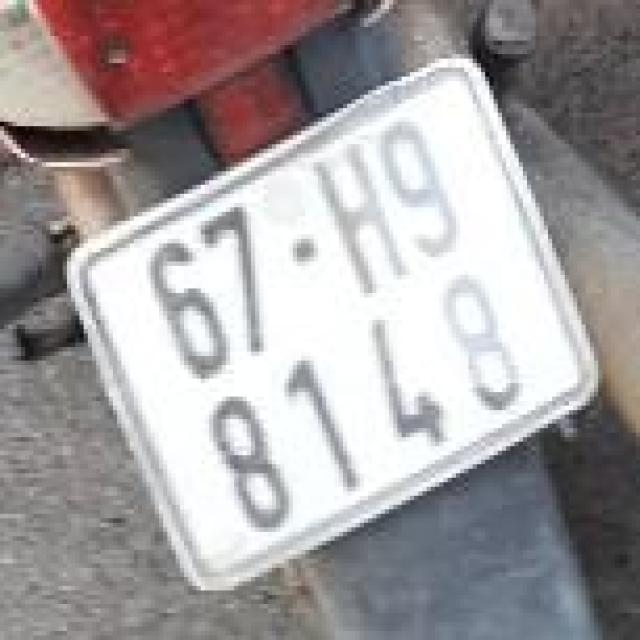1: (272, 341, 375, 501)
4: (347, 297, 467, 469)
6: (133, 224, 240, 389)
7: (188, 197, 293, 366)
8: (186, 380, 313, 546), (421, 260, 537, 427)
9: (365, 105, 480, 272)
H: (300, 130, 424, 315)
